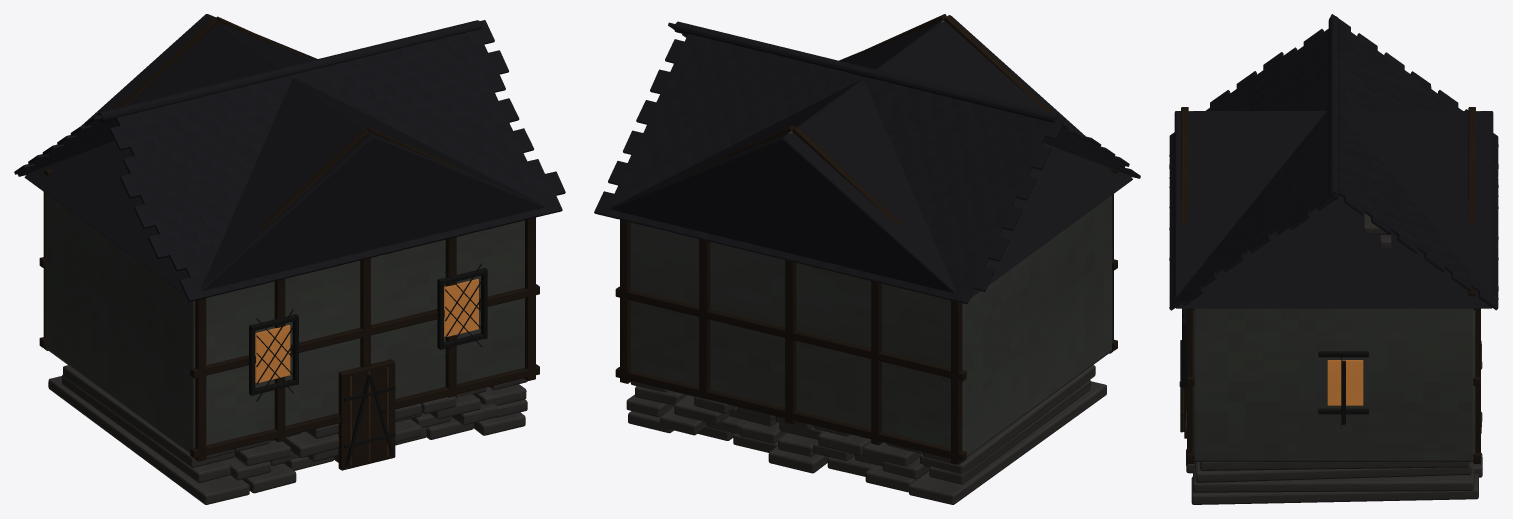
Rendered from prop_town_house_1.glb.
The picture shows the model from 3 angles, left to right: view 1: azimuth 30°, elevation 25°; view 2: azimuth 150°, elevation 25°; view 3: azimuth 270°, elevation 25°; orthographic projection. The views are drawn at different scales.
Parts seen in each view (by area): view 1: slate, plaster, oak, stone, iron, glass, aged_oak; view 2: slate, plaster, stone, oak; view 3: slate, plaster, stone, oak, iron, glass.
Part boxes in pixels (left/top/right/bottom): slate: left=14, top=14, right=565, bottom=301; plaster: left=45, top=193, right=524, bottom=453; oak: left=39, top=16, right=540, bottom=470; stone: left=48, top=365, right=527, bottom=504; iron: left=249, top=263, right=487, bottom=465; glass: left=255, top=279, right=478, bottom=383; aged_oak: left=349, top=367, right=388, bottom=465; slate: left=594, top=15, right=1140, bottom=304; plaster: left=630, top=20, right=1112, bottom=457; stone: left=626, top=365, right=1106, bottom=504; oak: left=615, top=14, right=1118, bottom=464; slate: left=1169, top=14, right=1498, bottom=310; plaster: left=1188, top=111, right=1480, bottom=461; stone: left=1185, top=213, right=1482, bottom=504; oak: left=1181, top=107, right=1480, bottom=463; iron: left=1179, top=308, right=1368, bottom=432; glass: left=1327, top=360, right=1363, bottom=405.
Size of the model in its own units: 11.27 by 9.43 by 8.6.
Materials: 7 (7 with a texture image).
